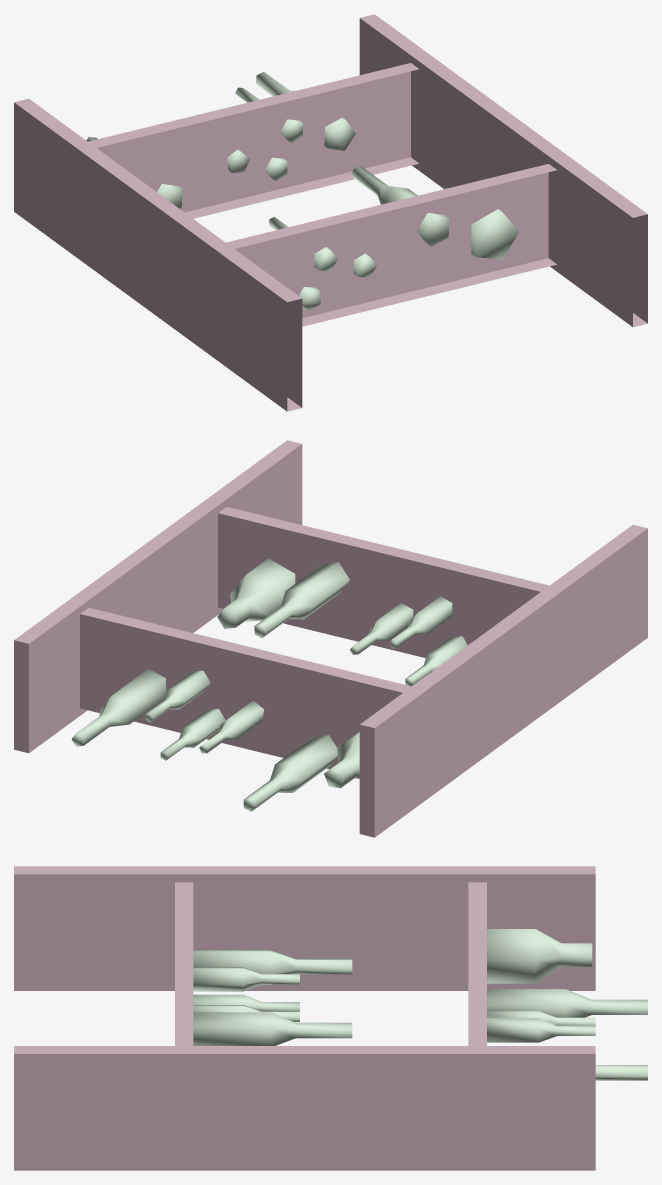
3 views of the same model, one above another, from view 1: azimuth 30°, elevation 25°; view 2: azimuth 150°, elevation 25°; view 3: azimuth 270°, elevation 25° (orthographic). The views are drawn at different scales.
Visible parts, largest first — view 1: Object52; view 2: Object52; view 3: Object52.
Part boxes in pixels (box(x1,y1,x2,y2)): Object52: box(14, 14, 647, 411); Object52: box(14, 440, 647, 837); Object52: box(14, 866, 647, 1170).
Size of the model in its own units: 16018 by 4643 by 22892.
